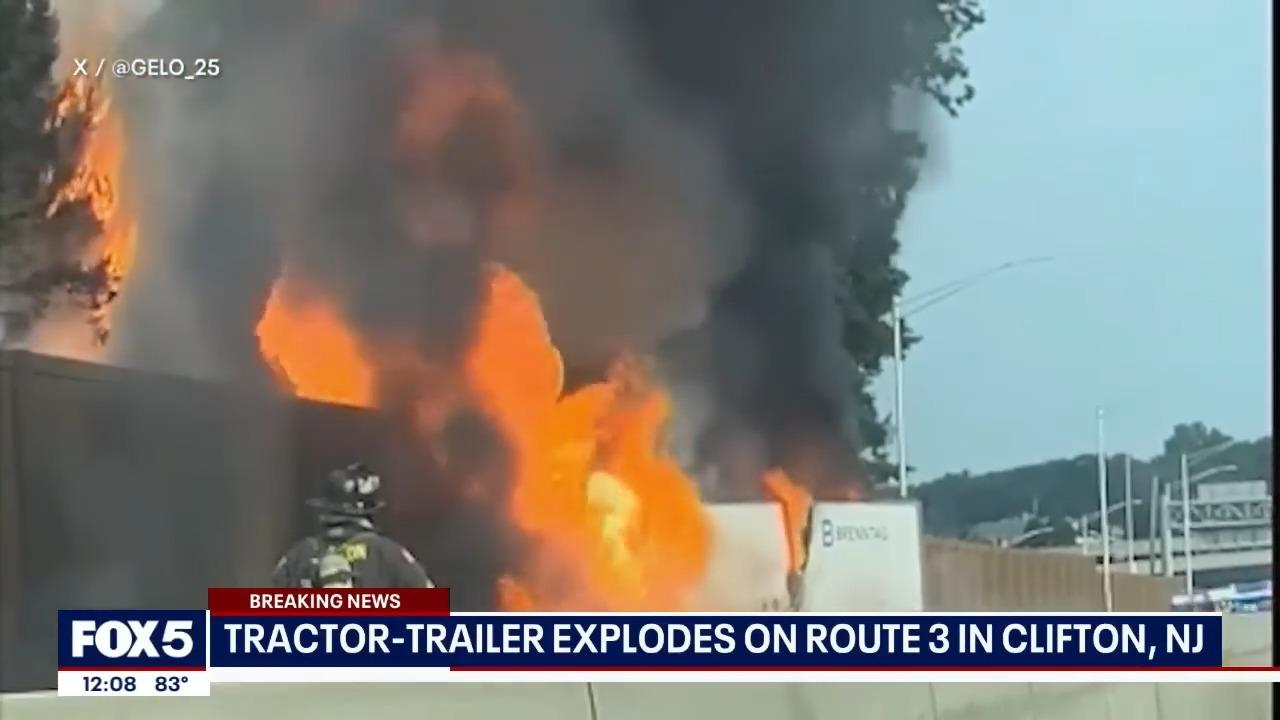fire: (459, 264, 727, 607), (237, 266, 378, 407), (44, 51, 134, 263), (764, 466, 832, 583)
